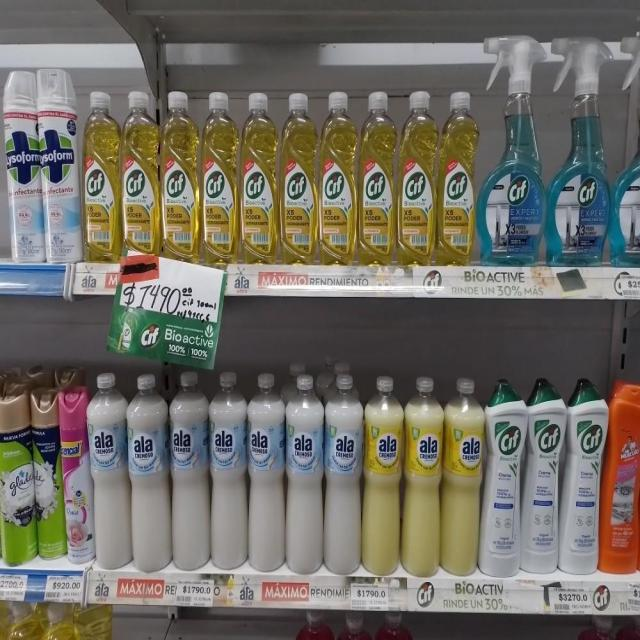ala_conc_rojo: (295, 610, 336, 640), (577, 615, 619, 640), (619, 615, 640, 639)
ala_crem_amarillo: (363, 373, 402, 578), (443, 376, 482, 578), (404, 374, 442, 578)
ala_crem_blanco: (128, 372, 170, 574), (170, 370, 209, 574), (324, 371, 362, 577), (90, 371, 128, 573), (286, 372, 323, 576), (210, 370, 247, 574), (248, 371, 284, 574)
cif_conc_bot_amarilla: (397, 88, 436, 265), (160, 89, 200, 261), (358, 88, 396, 265), (438, 89, 476, 266), (319, 89, 357, 265), (240, 90, 278, 263), (121, 89, 159, 257), (202, 88, 238, 264), (280, 90, 316, 266), (83, 90, 119, 261)
heroe: (75, 603, 114, 640)
magistral_con_amarillo: (2, 601, 41, 640), (41, 601, 75, 640)
